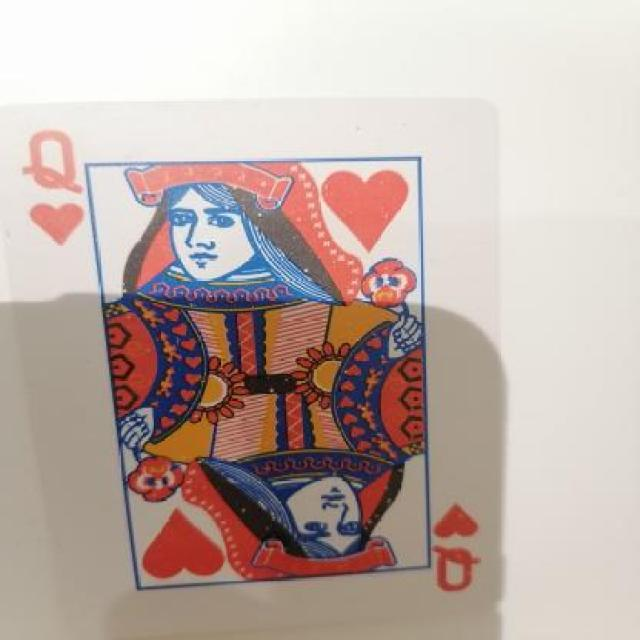QH: (24, 117, 104, 269), (428, 495, 500, 619)
